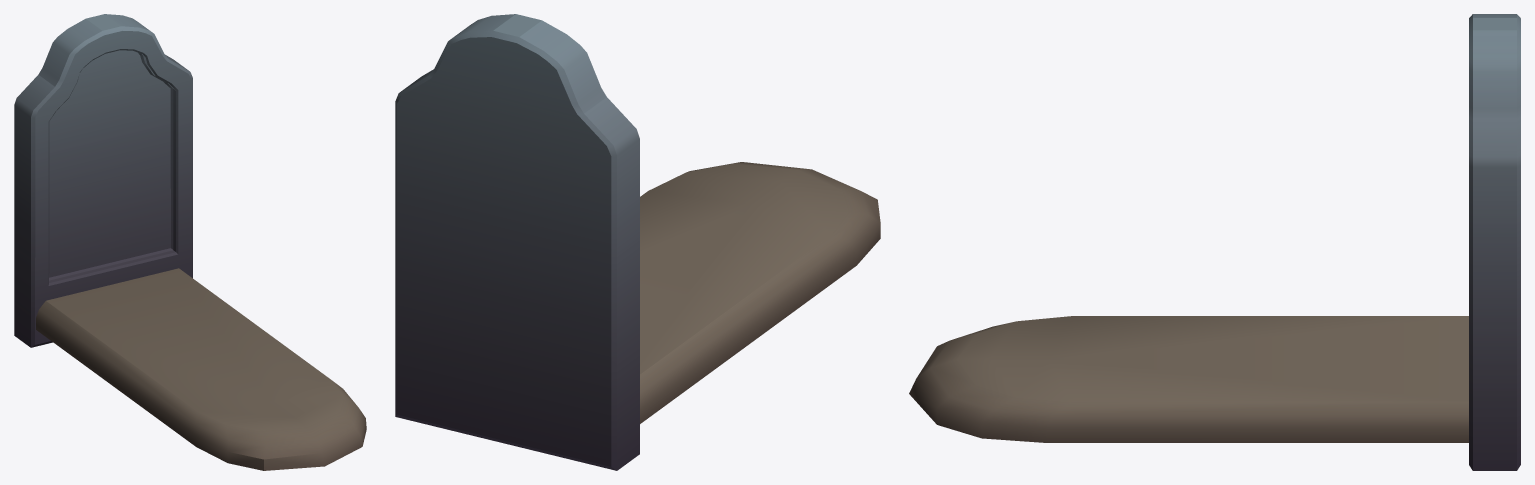
File: GStone1.fbx
3 views of the same model, side by side, from view 1: azimuth 30°, elevation 25°; view 2: azimuth 150°, elevation 25°; view 3: azimuth 270°, elevation 25° (orthographic). The views are drawn at different scales.
Parts seen in each view (by area): view 1: GStone1; view 2: GStone1; view 3: GStone1.
Part boxes in pixels (bbox=[...]): GStone1: bbox=[14, 14, 366, 470]; GStone1: bbox=[395, 14, 880, 470]; GStone1: bbox=[909, 14, 1520, 470].
Size of the model in its own units: 200 by 353 by 496.
1 material, 1 textured.
